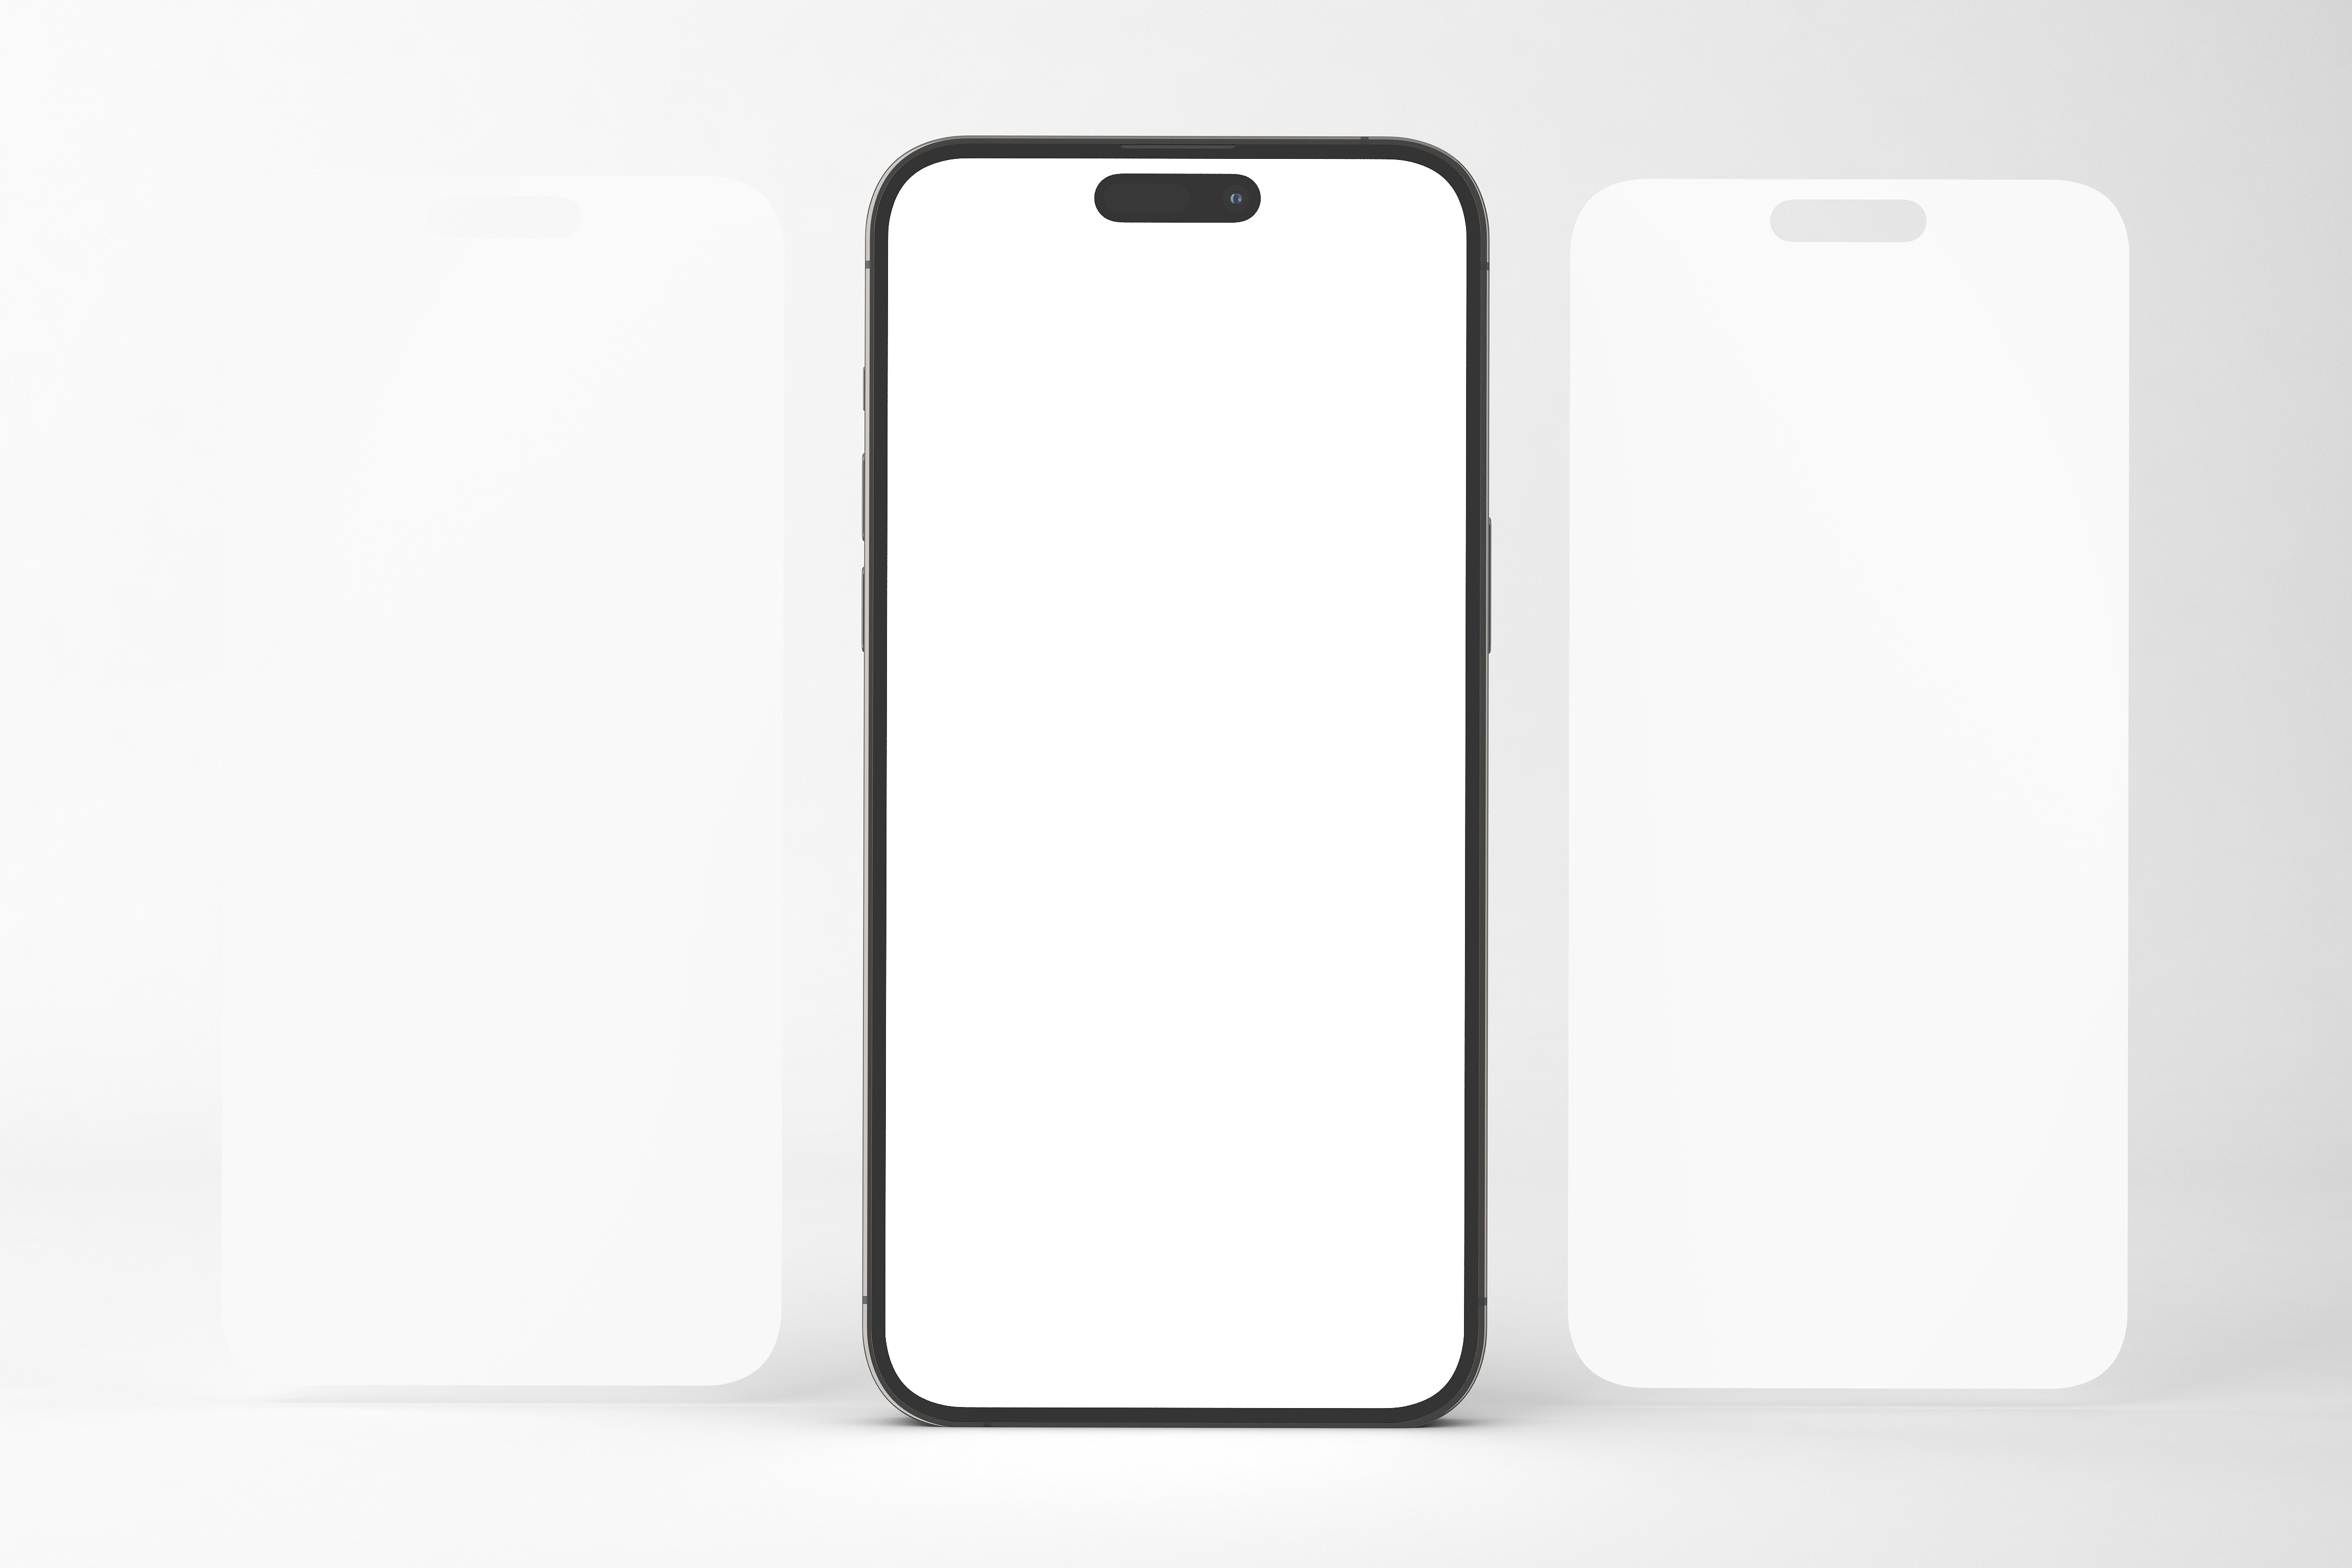p6: (838, 119, 1512, 1444)
